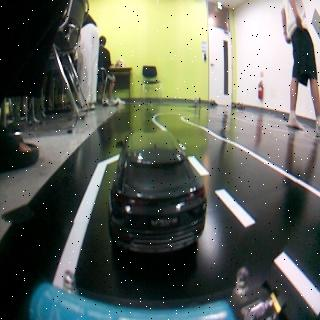car: (109, 128, 204, 250)
